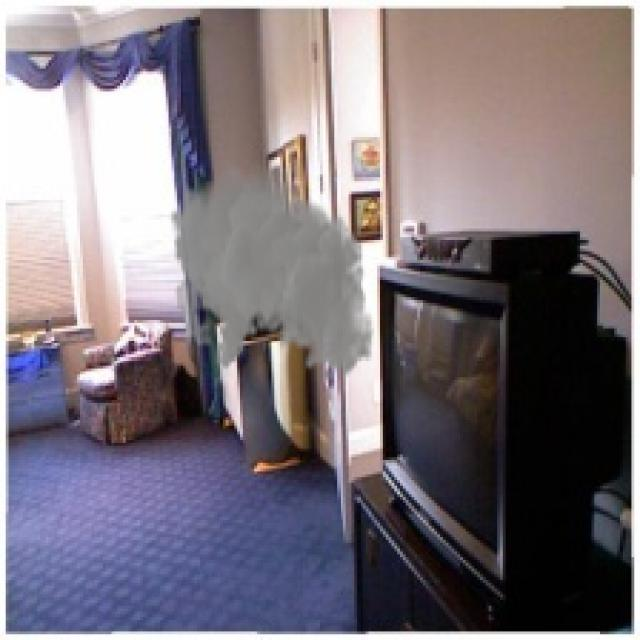smoke: (169, 154, 374, 383)
